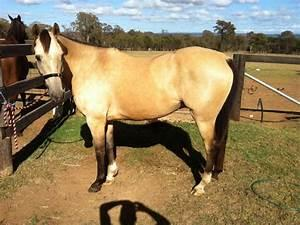horse: (31, 21, 236, 196)
